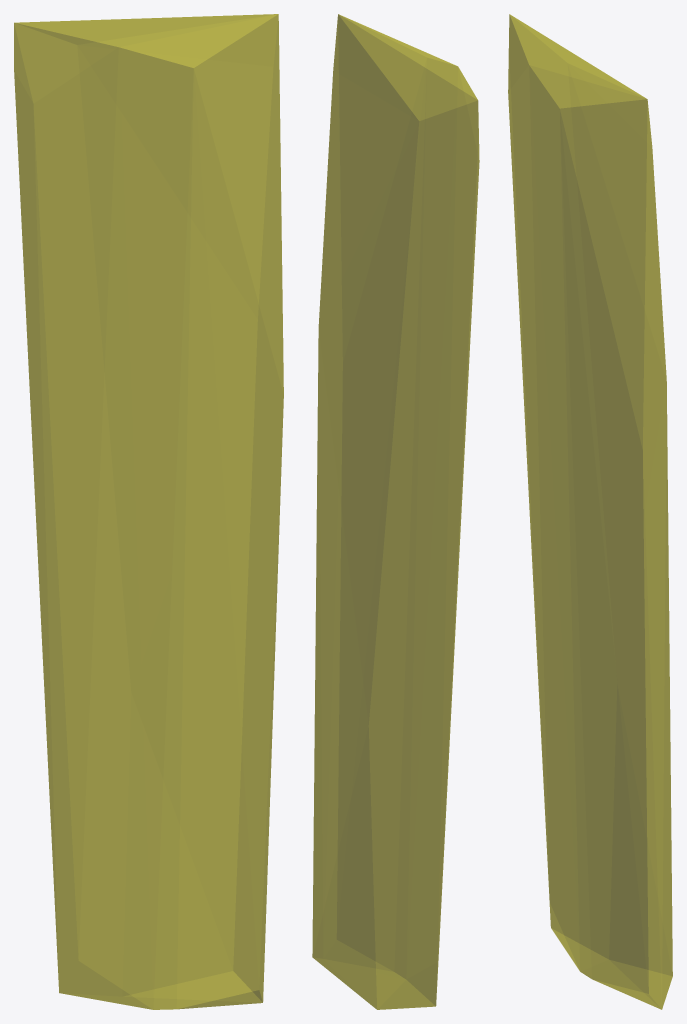
The picture shows the model from 3 angles, left to right: view 1: azimuth 30°, elevation 25°; view 2: azimuth 150°, elevation 25°; view 3: azimuth 330°, elevation 25°; orthographic projection. The views are drawn at different scales.
Visible parts, largest first — view 1: Shape_IndexedFaceSet.027_Shape_IndexedFaceSet.9835; view 2: Shape_IndexedFaceSet.027_Shape_IndexedFaceSet.9835; view 3: Shape_IndexedFaceSet.027_Shape_IndexedFaceSet.9835.
Boxes of the visible parts, left/top/right/bottom form: Shape_IndexedFaceSet.027_Shape_IndexedFaceSet.9835: left=14, top=14, right=283, bottom=1009; Shape_IndexedFaceSet.027_Shape_IndexedFaceSet.9835: left=312, top=14, right=479, bottom=1009; Shape_IndexedFaceSet.027_Shape_IndexedFaceSet.9835: left=508, top=14, right=672, bottom=1009.
Size of the model in its own units: 0.1306 by 0.6019 by 0.0681.
